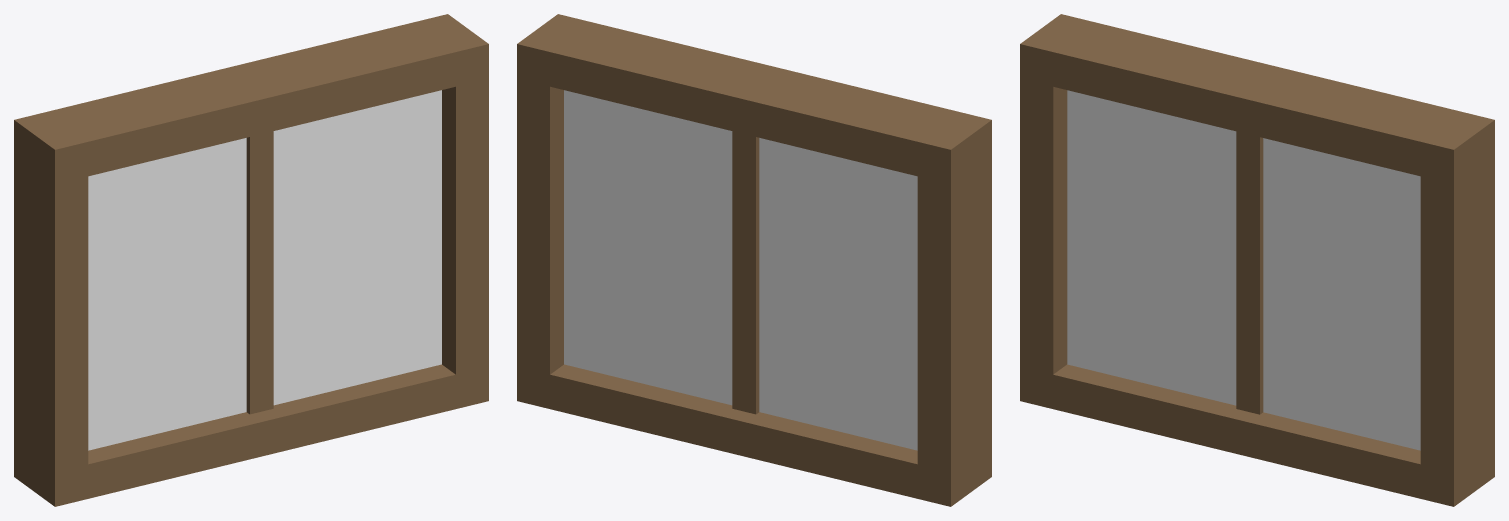
The model's file is GlassWindow1.glb.
3 renders of one model, left to right at view 1: azimuth 30°, elevation 25°; view 2: azimuth 150°, elevation 25°; view 3: azimuth 330°, elevation 25°, orthographic.
Parts seen in each view (by area): view 1: Cube, Cube_001, Cube.002; view 2: Cube, Cube_001, Cube.002; view 3: Cube, Cube_001, Cube.002.
Boxes of the visible parts, left/top/right/bottom form: Cube: left=14, top=14, right=488, bottom=506; Cube_001: left=88, top=90, right=441, bottom=450; Cube.002: left=246, top=131, right=273, bottom=414; Cube: left=517, top=14, right=991, bottom=506; Cube_001: left=564, top=90, right=917, bottom=450; Cube.002: left=732, top=131, right=759, bottom=414; Cube: left=1020, top=14, right=1494, bottom=506; Cube_001: left=1067, top=90, right=1420, bottom=450; Cube.002: left=1236, top=131, right=1263, bottom=414.
Bounding box in the file's own units: 2 × 1.58 × 0.3282.
2 materials, 1 textured.
